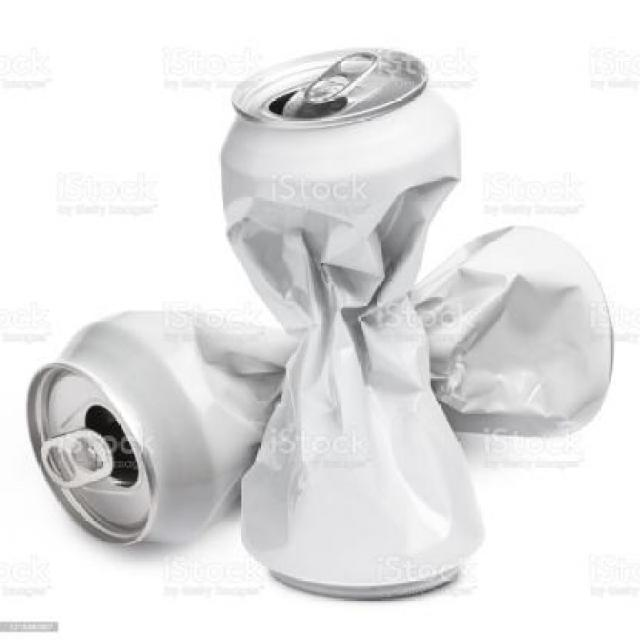non-organic waste: (20, 221, 626, 562), (212, 18, 503, 600)
